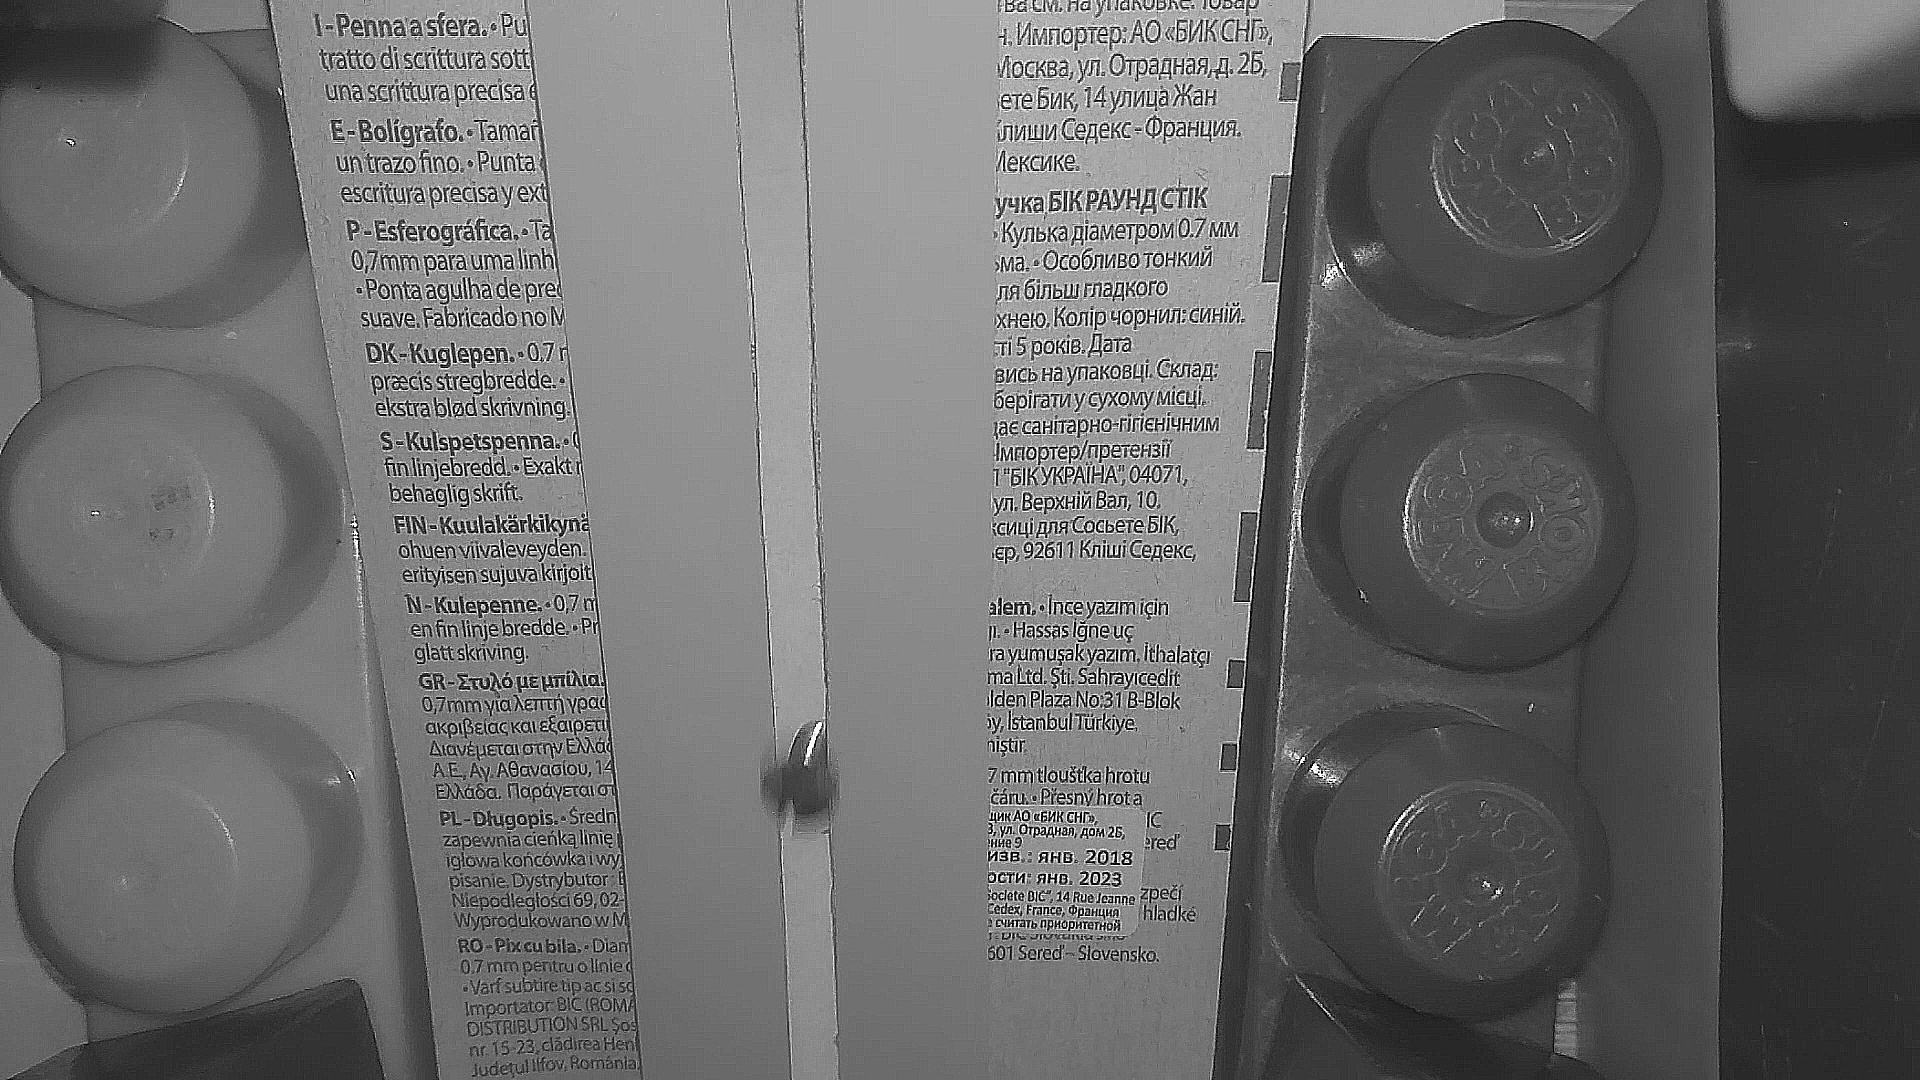i: (766, 764, 833, 814)
